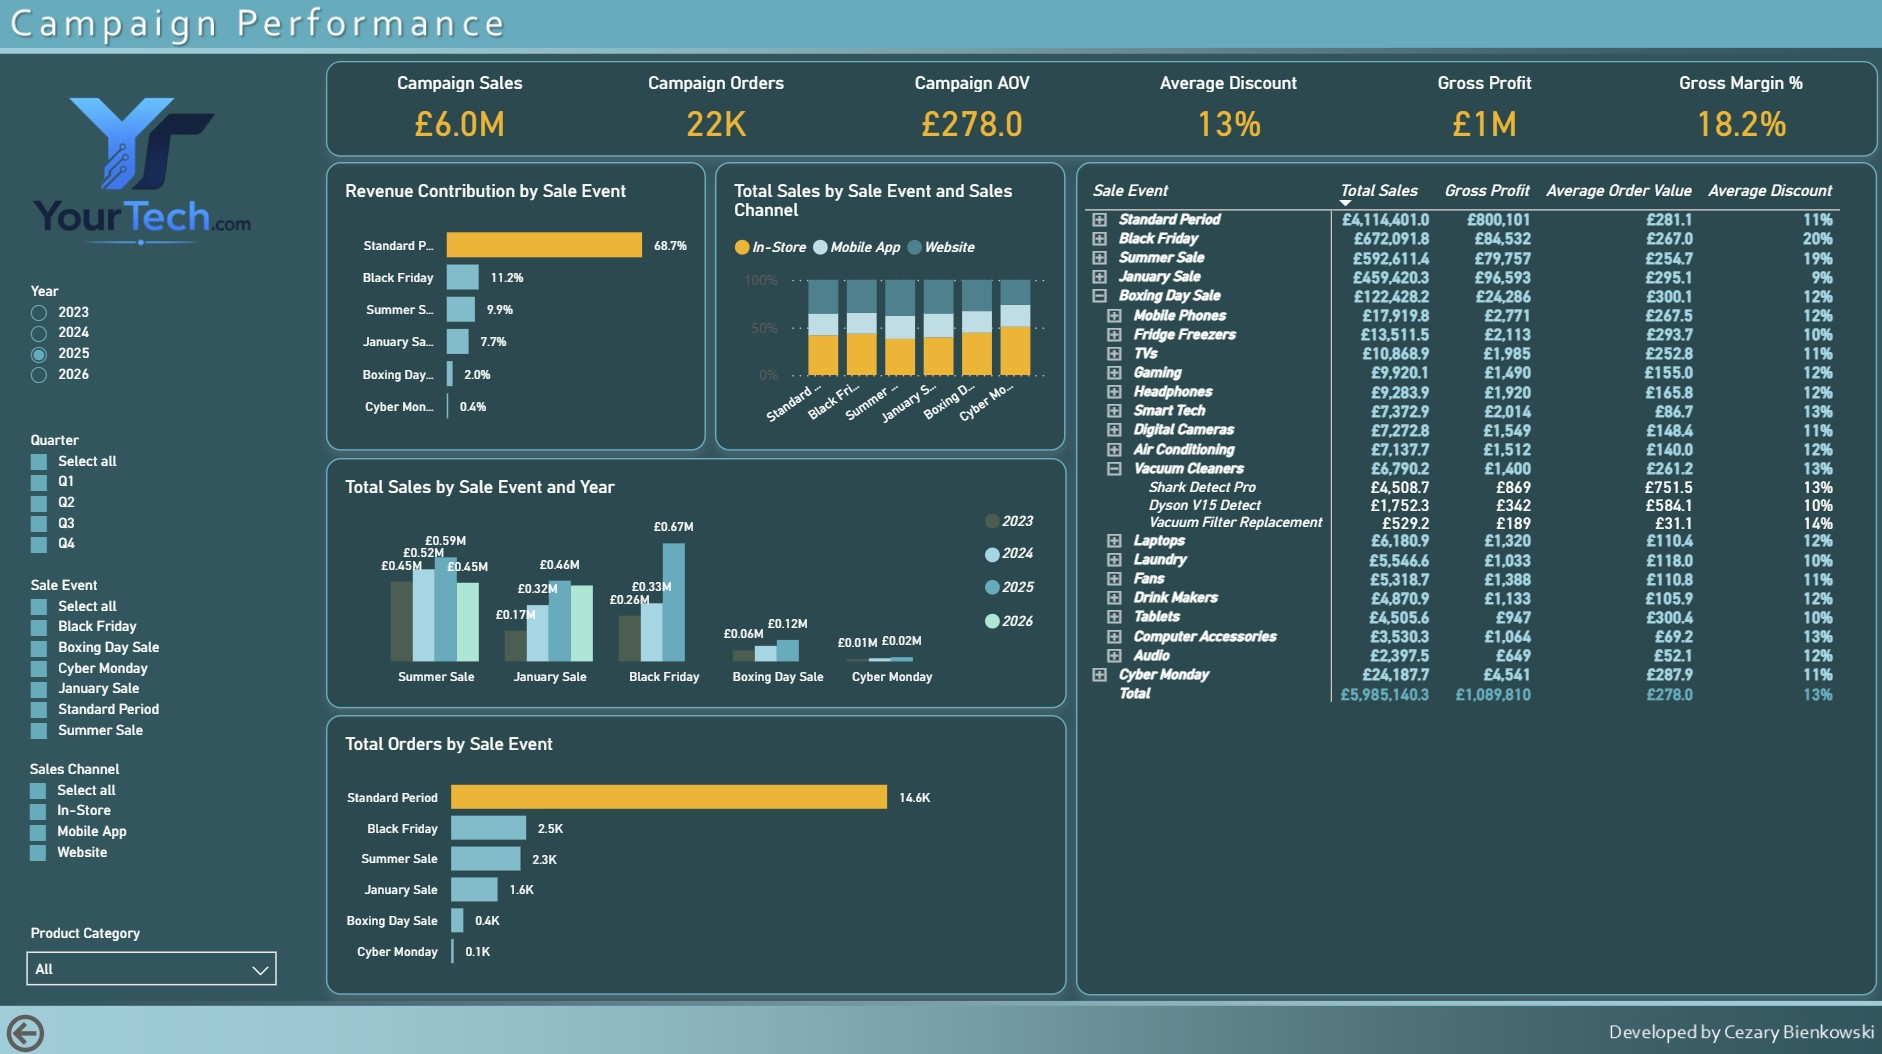

The dashboard page shown, as its layout file describes it:
{"tool":"powerbi","page":{"name":"Campaign Performance","canvas":[1280,720],"ordinal":2},"visuals":[{"type":"barChart","title":"Revenue Contribution by Sale Event","fields":{"Category":["dSale Event.Sale_Event_Name"],"Y":["_Measures.Campaign Sales %"]},"box":[221.2,110.6,258.5,196.3],"z":0},{"type":"barChart","title":"Total Orders by Sale Event","fields":{"Category":["dSale Event.Sale_Event_Name"],"Y":["_Measures.Total Orders"]},"box":[221.2,486.2,502.6,190.4],"z":1000},{"type":"lineChart","fields":{"Category":["dDate.Month"],"Series":["dSale Event.Sale_Event_Name"],"Y":["_Measures.Total Sales"]},"box":[221.2,311.5,502.6,169.5],"z":2000},{"type":"hundredPercentStackedColumnChart","fields":{"Category":["dSale Event.Sale_Event_Name"],"Series":["fSales.Sales Channel"],"Y":["_Measures.Total Sales"]},"box":[485.6,110.6,238.2,196.3],"z":3000},{"type":"pivotTable","fields":{"Rows":["dSale Event.Sale_Event_Name","dProducts.Product Category","dProducts.Product Name"],"Values":["_Measures.Total Sales","_Measures.Gross Profit","_Measures.Average Order Value","_Measures.Average Discount"]},"box":[731,105.4,544.5,566.1],"z":4000},{"type":"cardVisual","fields":{"Data":["_Measures.Campaign Sales","_Measures.Campaign Orders","_Measures.Campaign AOV","_Measures.Average Discount","_Measures.Gross Profit","_Measures.Gross Margin %"]},"box":[221.2,41.9,1054.2,64.8],"z":5000},{"type":"slicer","fields":{"Values":["dDate.Year"]},"box":[13,192.5,179.6,91.6],"z":6000},{"type":"slicer","fields":{"Values":["dDate.Quarter"]},"box":[13,294,179.6,88.7],"z":7000},{"type":"slicer","fields":{"Values":["dSale Event.Sale_Event_Name"]},"box":[13,392.5,179.6,115.4],"z":8000},{"type":"slicer","fields":{"Values":["dProducts.Product Category"]},"box":[13,628.8,180.3,42.5],"z":9000},{"type":"slicer","fields":{"Values":["fSales.Sales Channel"]},"box":[12.4,517.6,180,84.4],"z":10000},{"type":"actionButton","box":[0,685,100.2,34.5],"z":11000}]}

Visuals, with their boxes in screenshot pixels (x1, y1, x2, y2), scaled from the page's 1280x720 canvas onto the 1882x1054 screenshot:
"Revenue Contribution by Sale Event" barChart: [325,162,705,449]
"Total Orders by Sale Event" barChart: [325,712,1064,990]
lineChart - dDate.Month x dSale Event.Sale_Event_Name: [325,456,1064,704]
hundredPercentStackedColumnChart - dSale Event.Sale_Event_Name x fSales.Sales Channel: [714,162,1064,449]
pivotTable - dSale Event.Sale_Event_Name x dProducts.Product Category: [1075,154,1875,983]
cardVisual - _Measures.Campaign Sales x _Measures.Campaign Orders: [325,61,1875,156]
slicer - dDate.Year: [19,282,283,416]
slicer - dDate.Quarter: [19,430,283,560]
slicer - dSale Event.Sale_Event_Name: [19,575,283,744]
slicer - dProducts.Product Category: [19,920,284,983]
slicer - fSales.Sales Channel: [18,758,283,881]
actionButton: [0,1003,147,1053]
